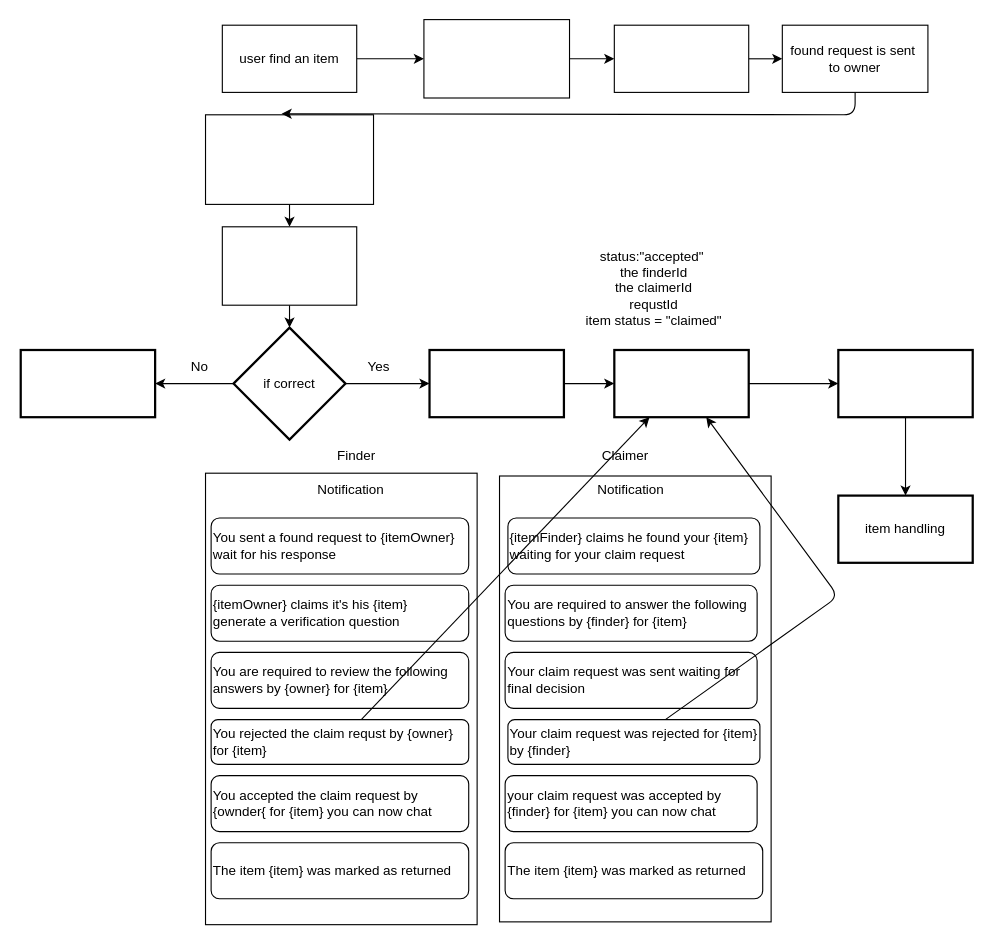
The diagram is 992 pixels wide and 945 high, and some of its shapes have lost their labels. The shapes that lost their labels are listed below. From the top down, each one's centre as x and y in pixels, then its label:
At point (496, 58): "saw what he found was posted as lost".
At point (681, 58): "clicks the found this button".
At point (289, 159): "founder generates question as a form for that claim request based on the item".
At point (289, 265): "the claimer answers the verification question by the founder".
At point (87, 383): "rejects the claim request".
At point (496, 383): "accept claim request".
At point (681, 383): "chat window opened".
At point (905, 383): "schedule meetup".
